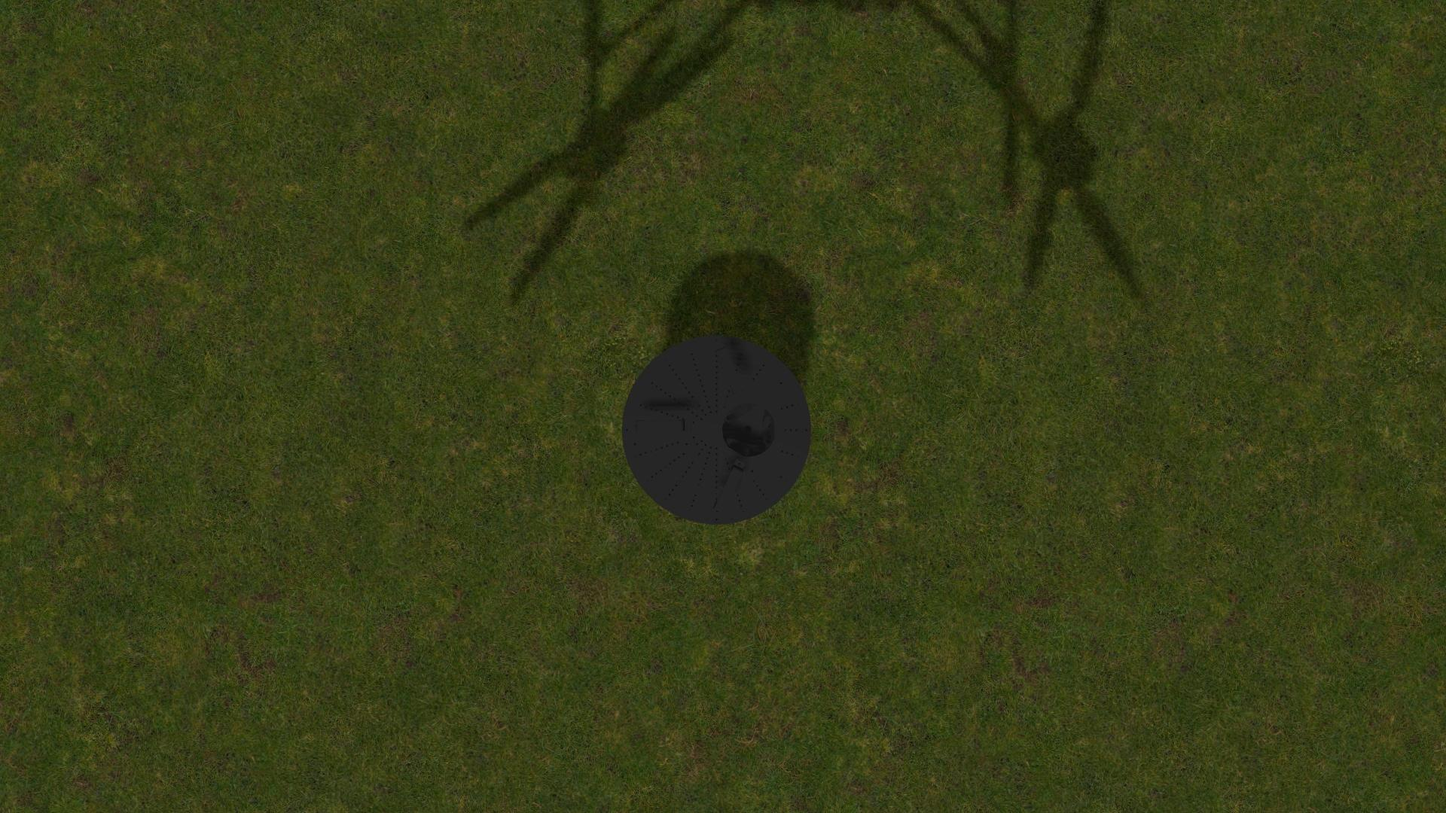alca: (711, 458, 747, 516), (713, 342, 746, 400), (632, 419, 691, 433)
armadilha: (622, 335, 811, 525)
